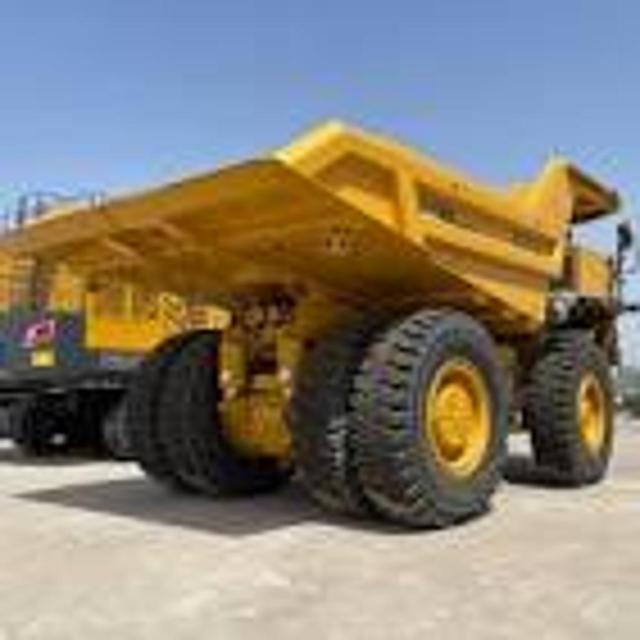dump_truck: (4, 114, 635, 522)
